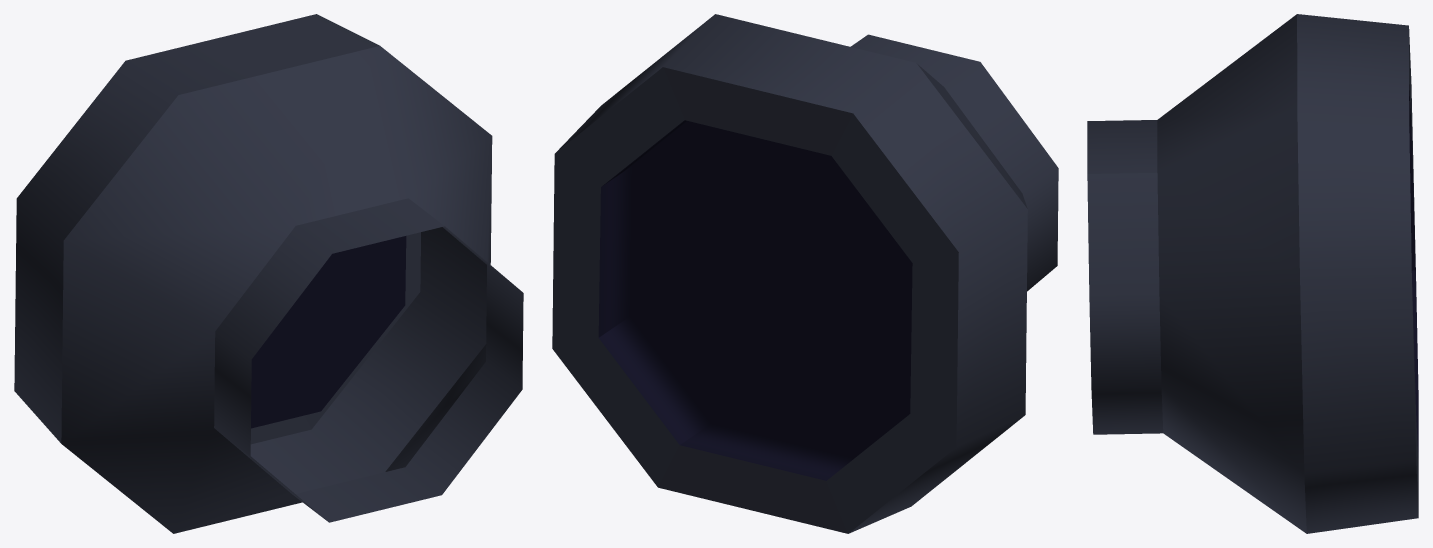
File: cannon_muzzle.fbx
3 views of the same model, side by side, from view 1: azimuth 30°, elevation 25°; view 2: azimuth 150°, elevation 25°; view 3: azimuth 270°, elevation 25° (orthographic). The views are drawn at different scales.
Parts seen in each view (by area): view 1: Cannon; view 2: Cannon; view 3: Cannon.
Boxes of the visible parts, x1,y1,x2,y2 form: Cannon: [14, 14, 523, 533]; Cannon: [552, 14, 1058, 533]; Cannon: [1087, 14, 1418, 533].
Bounding box in the file's own units: 217 × 214 × 151.
